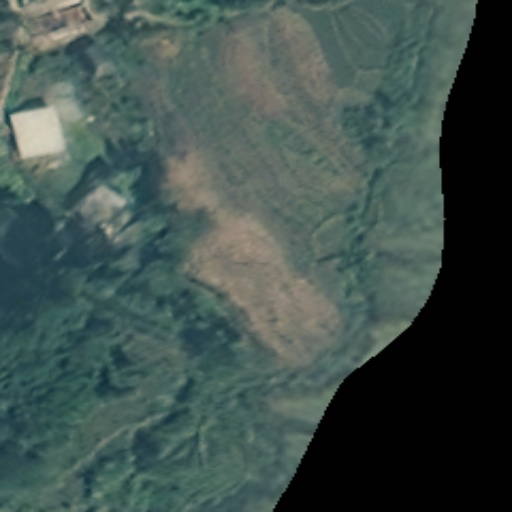landslide: (165, 153, 340, 365)
